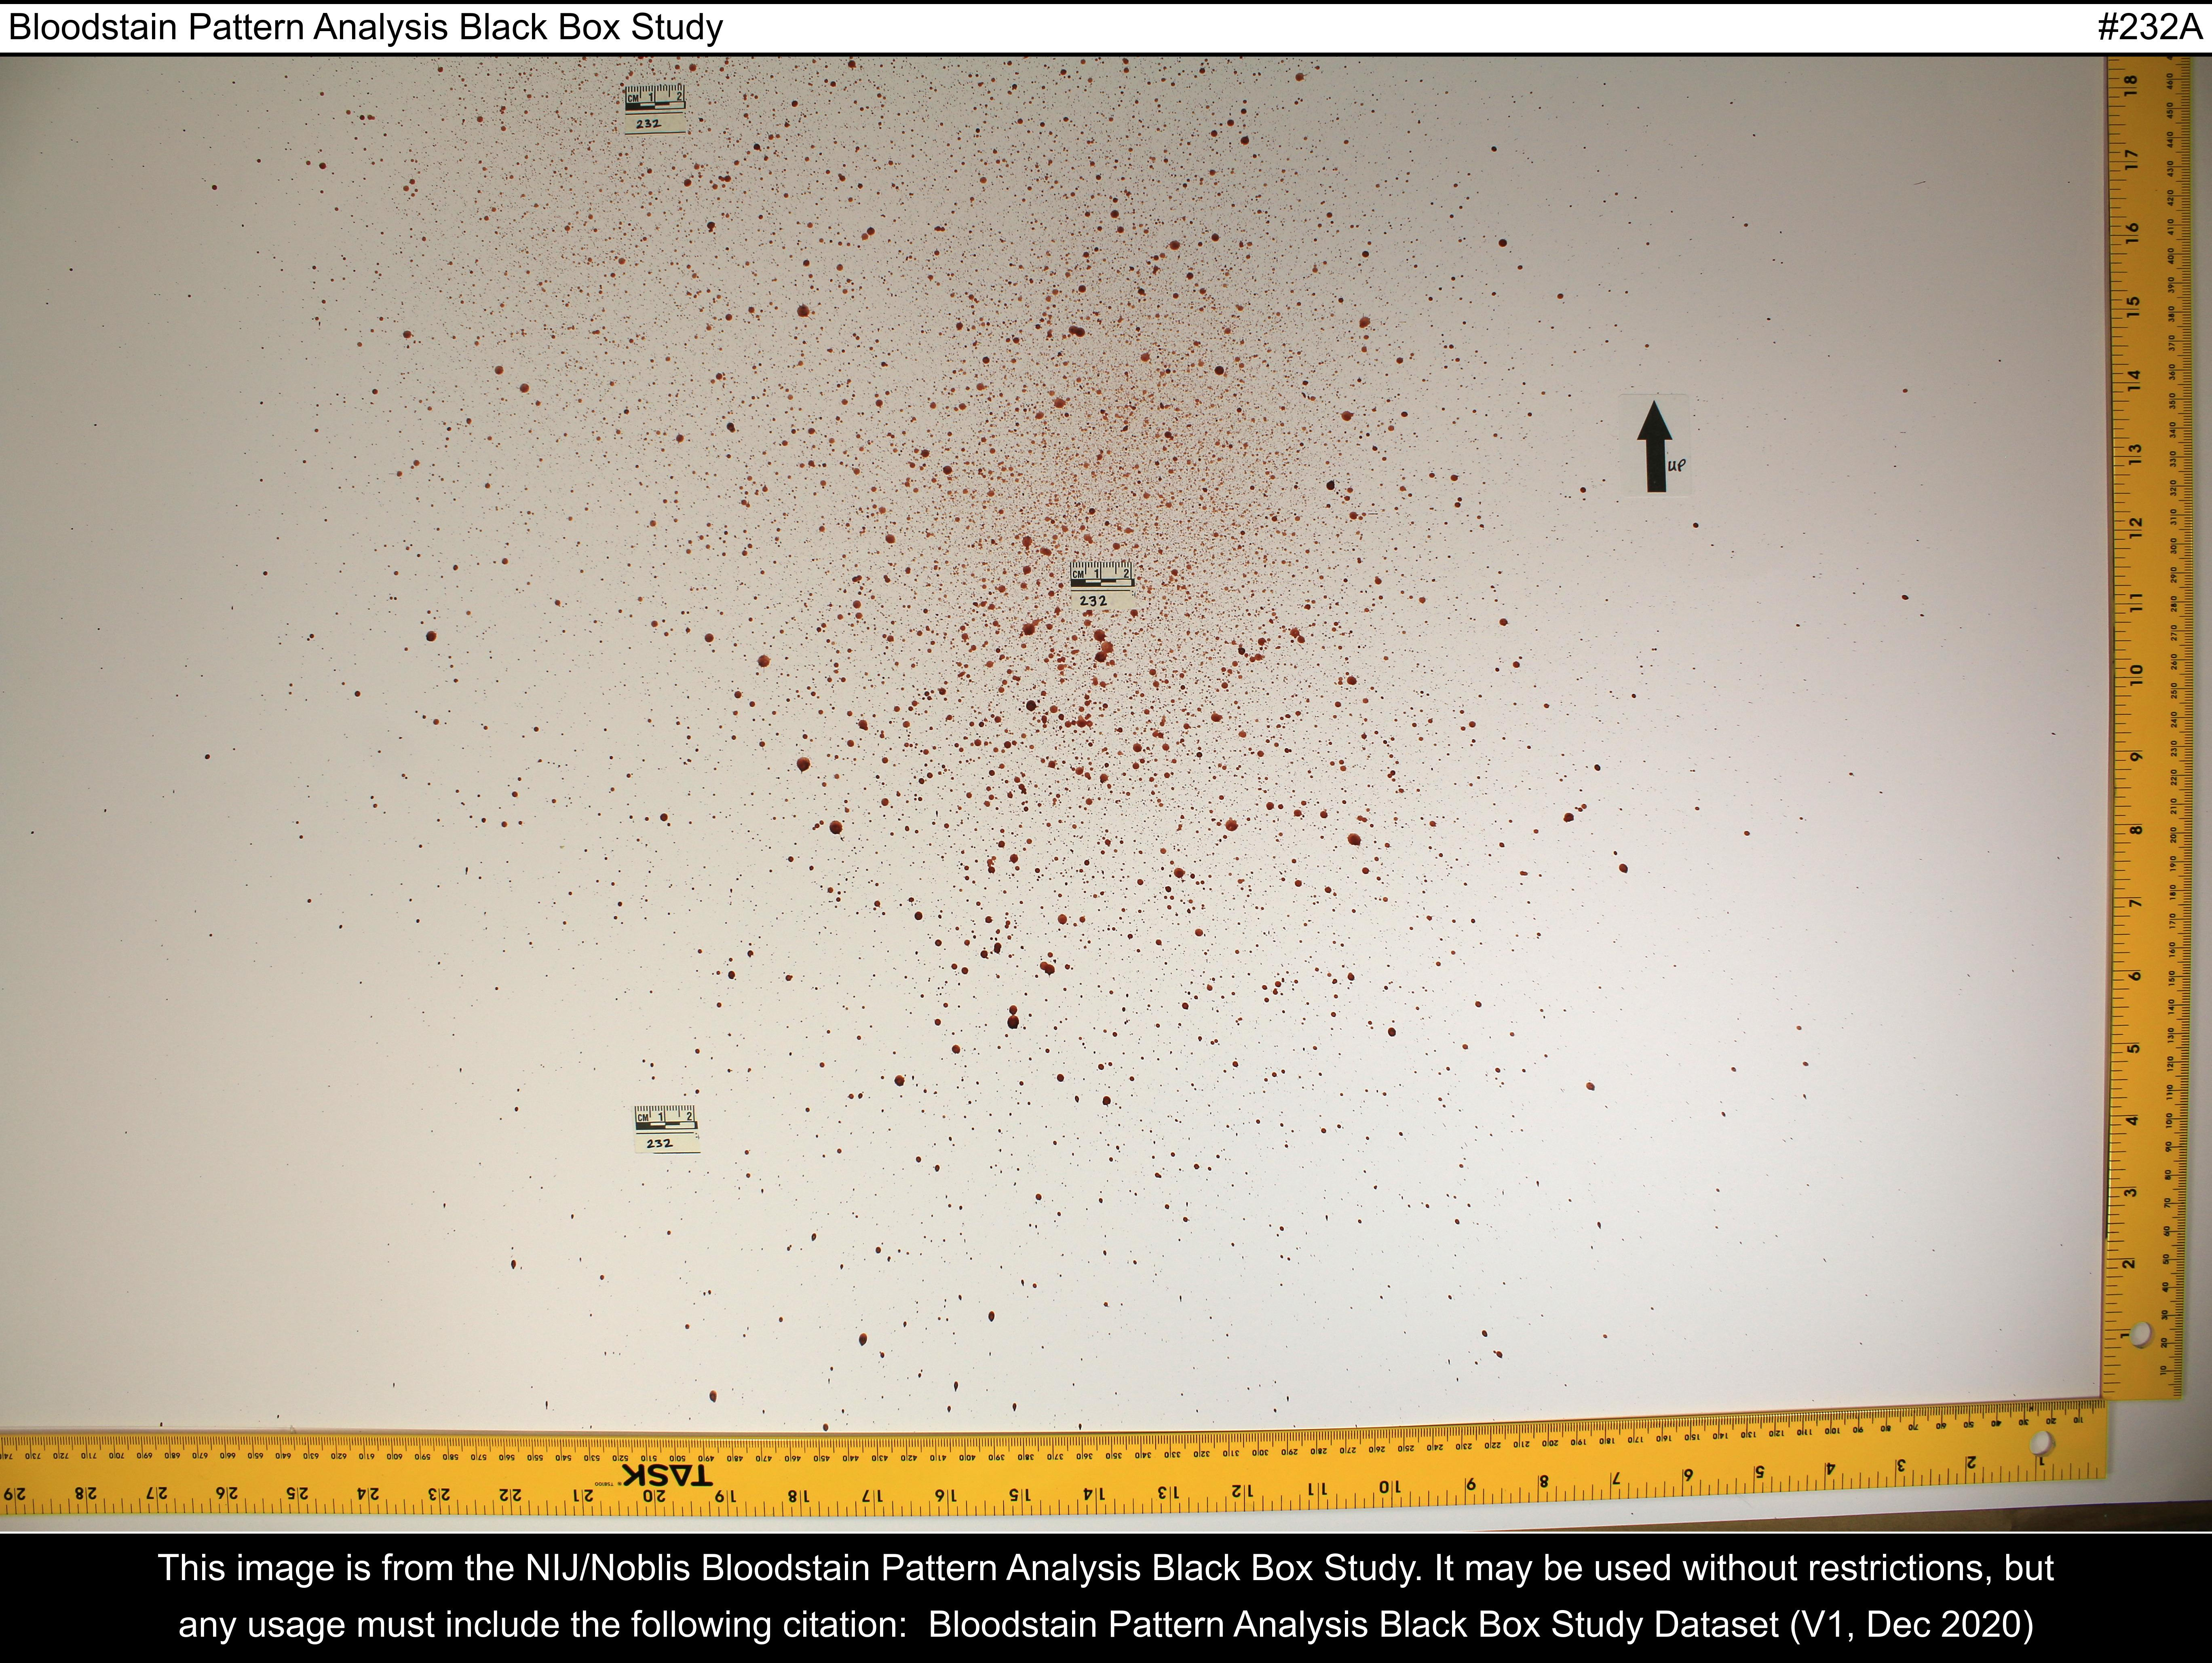Impact: (466, 84, 1728, 1202)
